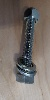FinishedAssembly: (14, 3, 41, 87)
